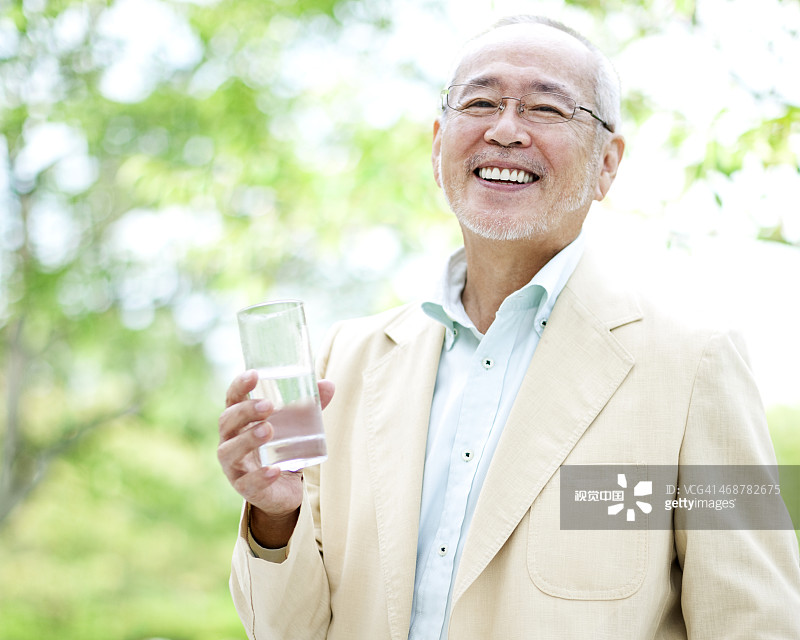no-phone: (204, 362, 347, 527)
